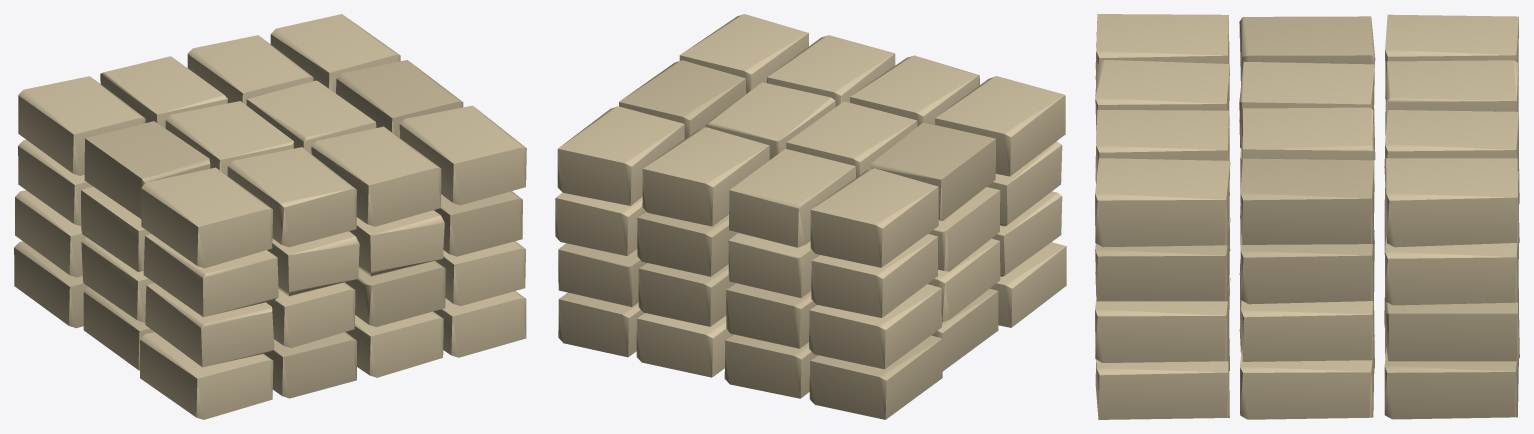
Rendered from JPN-23-LOD1.glb.
The picture shows the model from 3 angles, left to right: view 1: azimuth 30°, elevation 25°; view 2: azimuth 150°, elevation 25°; view 3: azimuth 270°, elevation 25°; orthographic projection. The views are drawn at different scales.
Parts seen in each view (by area): view 1: handmade block.036, handmade block.045, handmade block.039, handmade block.042, handmade block.038, handmade block, handmade block.037, handmade block.024, handmade block.012, handmade block.047, handmade block.046, handmade block.044 (+18 smaller); view 2: handmade block.038, handmade block.044, handmade block.047, handmade block.041, handmade block.036, handmade block.014, handmade block.002, handmade block.037, handmade block.026, handmade block.045, handmade block.046, handmade block.039 (+18 smaller); view 3: handmade block.047, handmade block.045, handmade block.046, handmade block.021, handmade block.035, handmade block.022, handmade block.010, handmade block.023, handmade block.034, handmade block.011, handmade block.009, handmade block.033 (+9 smaller).
Part boxes in pixels (<box>): handmade block.036: <box>141,167,272,268</box>; handmade block.045: <box>399,105,526,205</box>; handmade block.039: <box>227,147,356,247</box>; handmade block.042: <box>311,126,441,226</box>; handmade block.038: <box>18,76,145,175</box>; handmade block: <box>140,332,273,419</box>; handmade block.037: <box>84,121,210,218</box>; handmade block.024: <box>143,234,278,317</box>; handmade block.012: <box>145,283,274,367</box>; handmade block.047: <box>270,14,400,93</box>; handmade block.046: <box>336,60,463,137</box>; handmade block.044: <box>187,35,313,105</box>; handmade block.038: <box>810,168,938,267</box>; handmade block.044: <box>642,127,769,226</box>; handmade block.047: <box>557,106,684,205</box>; handmade block.041: <box>729,148,855,247</box>; handmade block.036: <box>935,76,1065,176</box>; handmade block.014: <box>809,284,941,369</box>; handmade block.002: <box>809,335,942,419</box>; handmade block.037: <box>871,123,995,221</box>; handmade block.026: <box>811,234,937,317</box>; handmade block.045: <box>679,14,808,93</box>; handmade block.046: <box>619,60,745,138</box>; handmade block.039: <box>850,55,979,126</box>; handmade block.047: <box>1384,158,1519,247</box>; handmade block.045: <box>1095,158,1230,247</box>; handmade block.046: <box>1240,158,1374,244</box>; handmade block.021: <box>1095,277,1230,362</box>; handmade block.035: <box>1385,237,1518,305</box>; handmade block.022: <box>1240,300,1374,361</box>; handmade block.010: <box>1240,334,1374,419</box>; handmade block.023: <box>1384,285,1519,361</box>; handmade block.034: <box>1240,225,1373,304</box>; handmade block.011: <box>1384,348,1518,419</box>; handmade block.009: <box>1095,339,1229,419</box>; handmade block.033: <box>1095,217,1230,301</box>.
Size of the model in its own units: 1.91 by 1.06 by 1.82.
